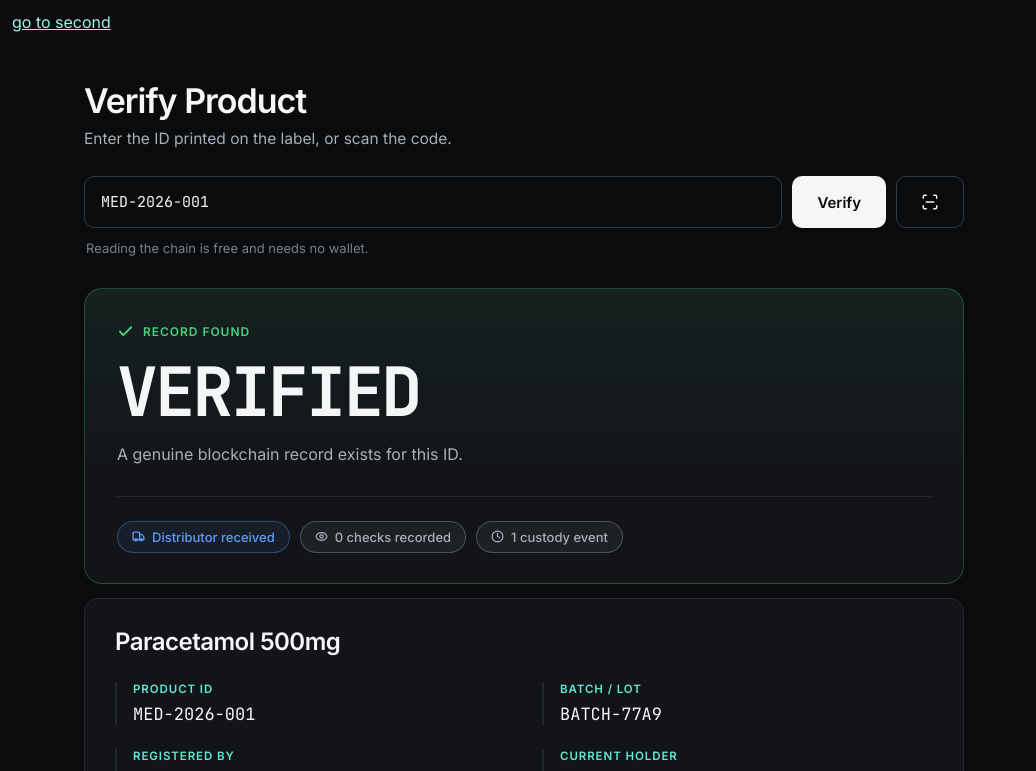
Scenario: VerifyProduct › verifies the new ID when the route changes while mounted
Step 1. Click the link "go to second" → (61, 22), box [12,12,111,32]
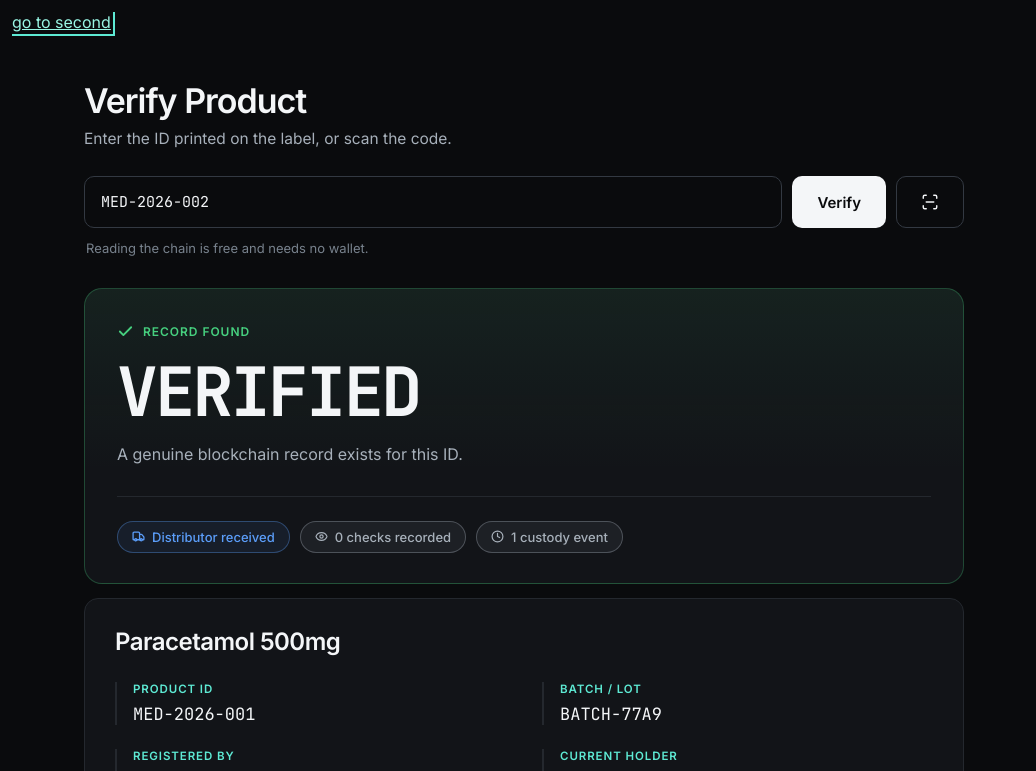
Result: the field named "product ID" holds "MED-2026-002" at [84,176,782,228]
